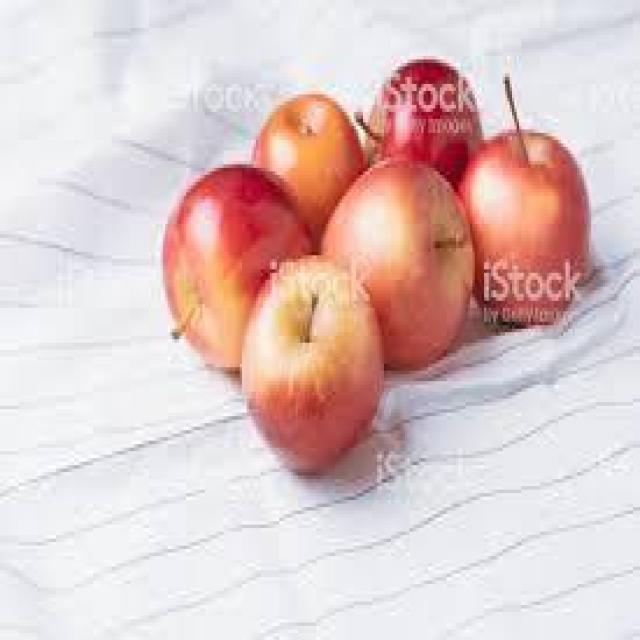maca: (161, 56, 591, 472), (319, 154, 475, 367), (160, 161, 312, 371), (240, 252, 384, 472)
